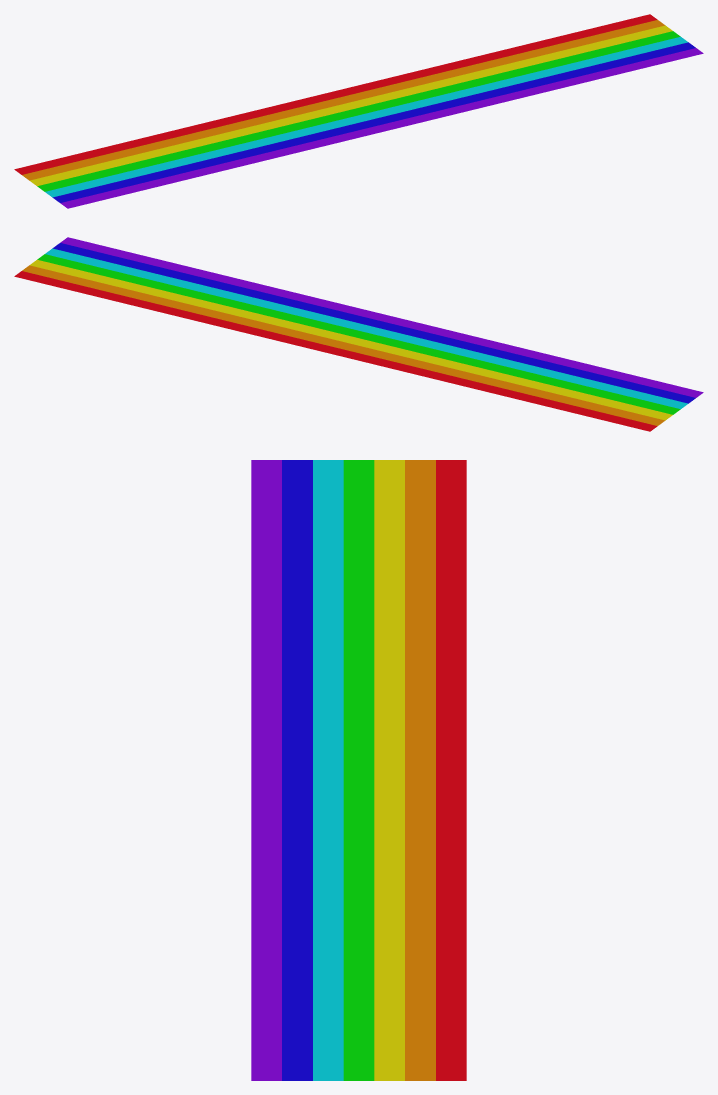
File: Rainbow.fbx
3 renders of one model, top to bottom at view 1: azimuth 30°, elevation 25°; view 2: azimuth 150°, elevation 25°; view 3: azimuth 270°, elevation 25°, orthographic. The views are drawn at different scales.
Visible parts, largest first — view 1: ArcoIris; view 2: ArcoIris; view 3: ArcoIris.
Part boxes in pixels (x1,y1,x2,y2): ArcoIris: [14, 14, 703, 208]; ArcoIris: [14, 237, 703, 431]; ArcoIris: [251, 460, 466, 1080].
Size of the model in its own units: 13.65 by 0 by 2.
